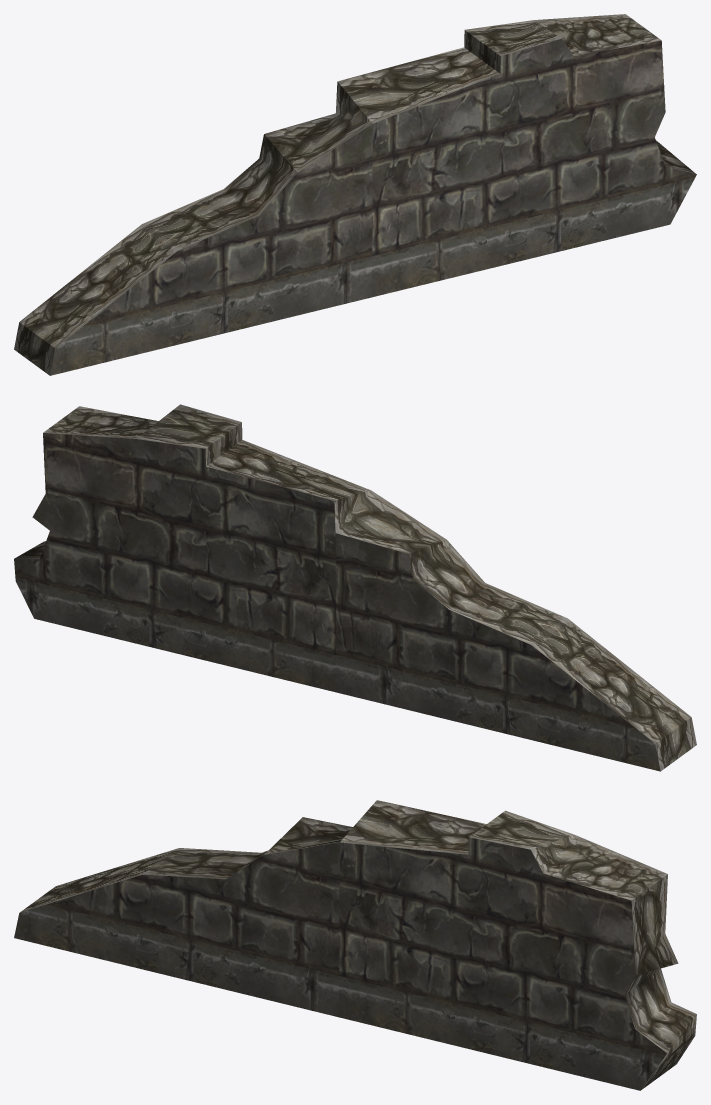
The model's file is Z_qiang004.fbx.
The picture shows the model from 3 angles, top to bottom: view 1: azimuth 30°, elevation 25°; view 2: azimuth 150°, elevation 25°; view 3: azimuth 330°, elevation 25°; orthographic projection.
Visible parts, largest first — view 1: Z_qiang004; view 2: Z_qiang004; view 3: Z_qiang004.
Part boxes in pixels (box(x1,y1,x2,y2)): Z_qiang004: box(14, 14, 696, 375); Z_qiang004: box(14, 404, 696, 771); Z_qiang004: box(14, 800, 696, 1090).
Bounding box in the file's own units: 787 × 247 × 75.95.
